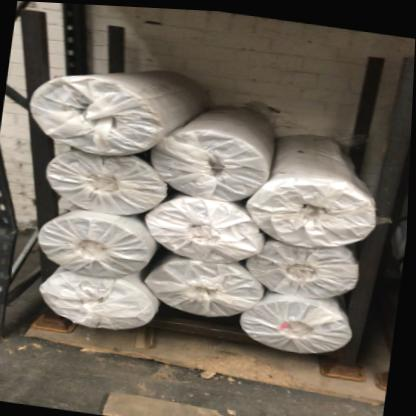vertical_damage: (1, 139, 42, 342)
